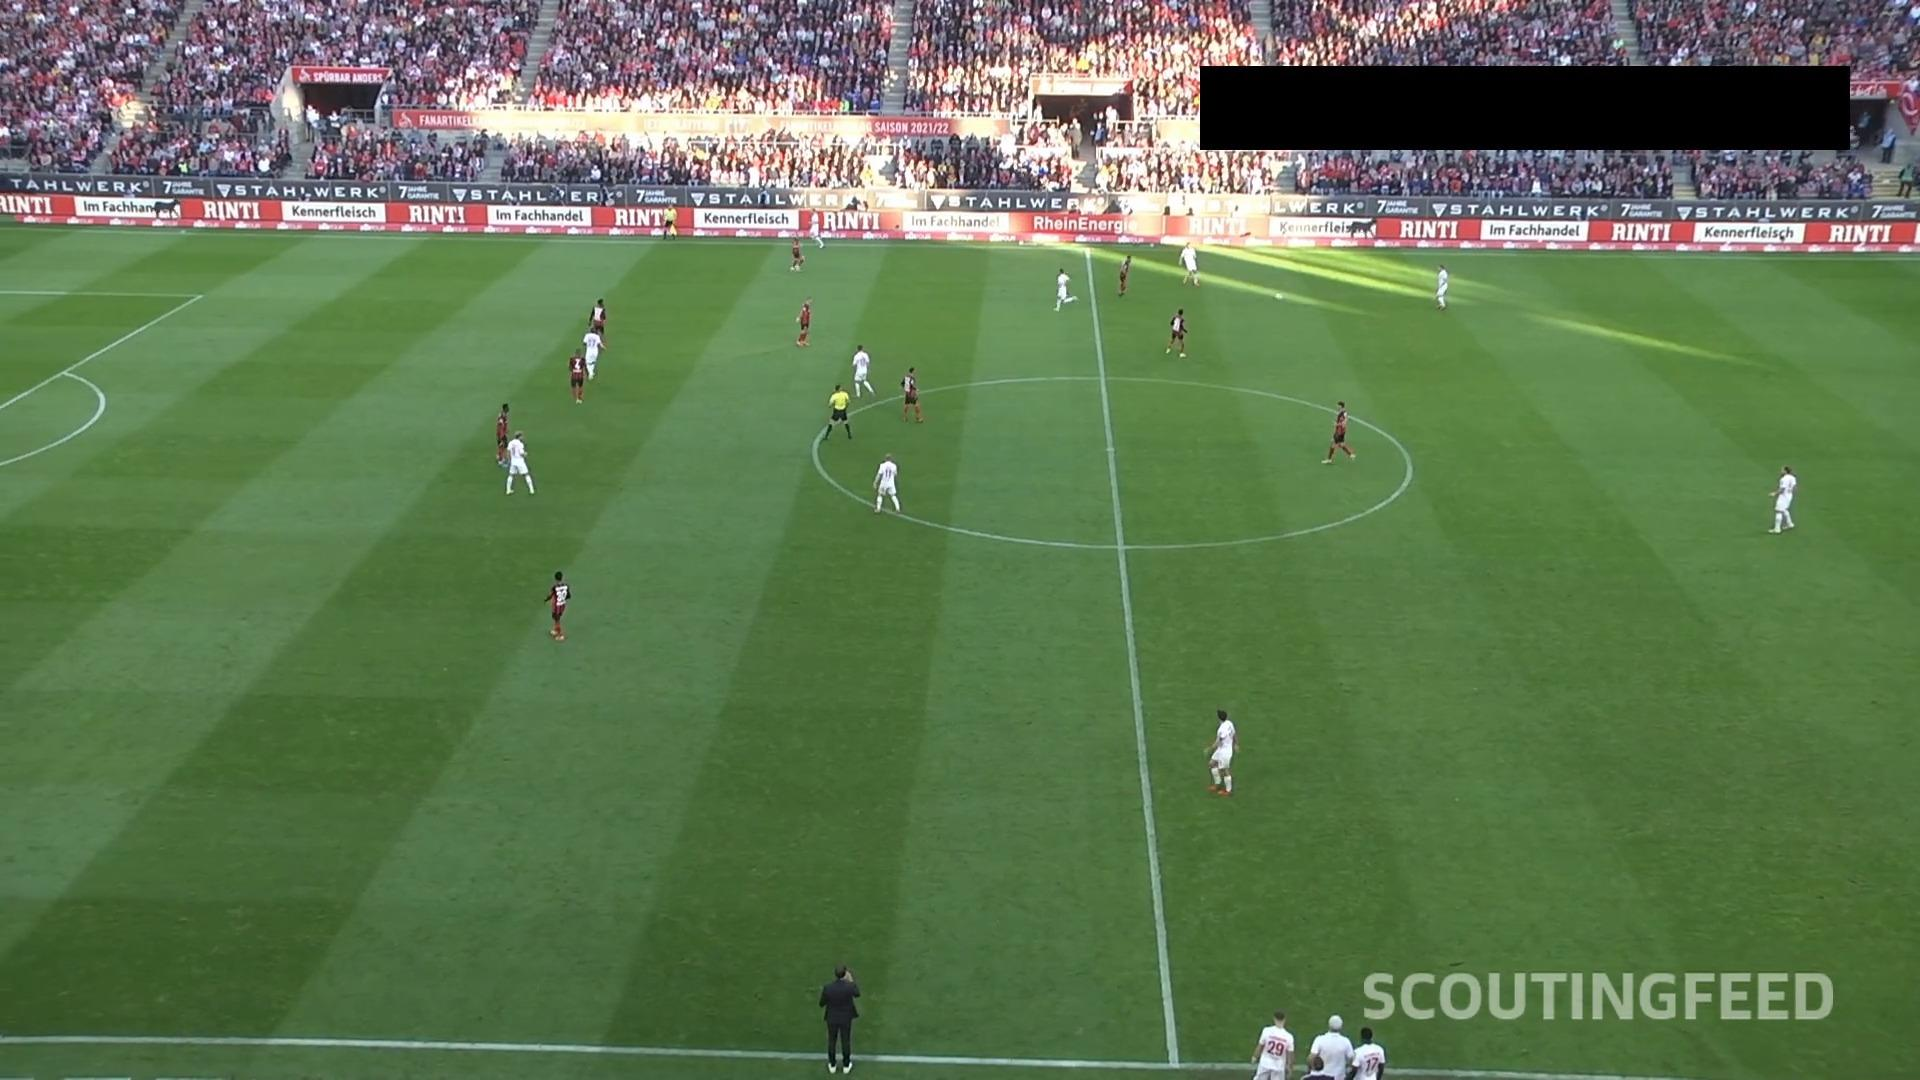ball: (1273, 293, 1283, 302)
